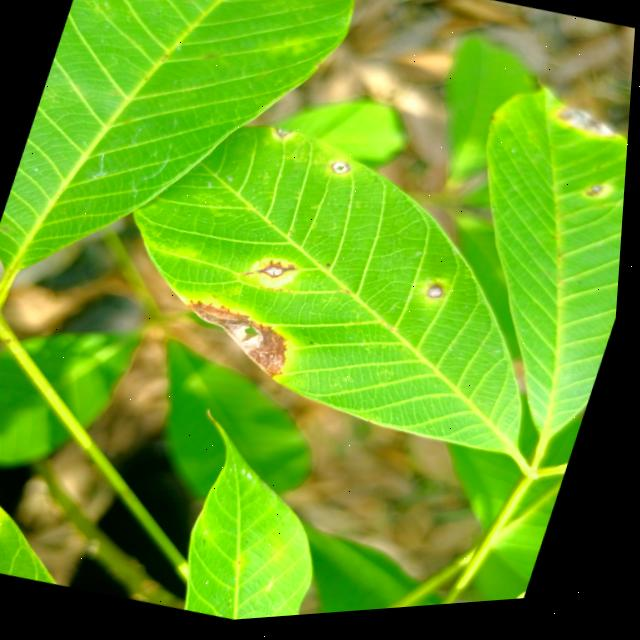Colletotrichum: (331, 163, 354, 181), (430, 288, 449, 307), (0, 520, 5, 538)
Leaf-Blight: (173, 295, 304, 389)
